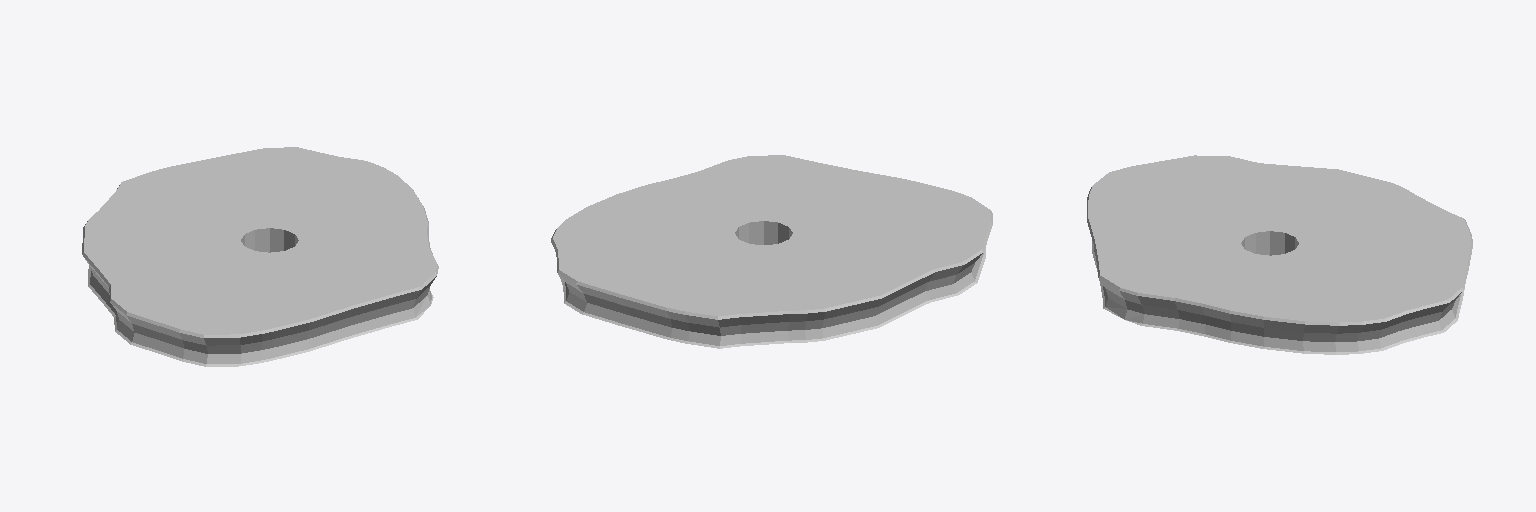
File: island_03.obj
3 views of the same model, side by side, from view 1: azimuth 30°, elevation 25°; view 2: azimuth 150°, elevation 25°; view 3: azimuth 270°, elevation 25° (orthographic).
Visible parts, largest first — view 1: island_03_Cube.008; view 2: island_03_Cube.008; view 3: island_03_Cube.008.
Boxes of the visible parts, x1,y1,x2,y2 form: island_03_Cube.008: [82, 147, 438, 366]; island_03_Cube.008: [551, 155, 992, 348]; island_03_Cube.008: [1087, 155, 1472, 354].
Size of the model in its own units: 137 by 12.9 by 133.